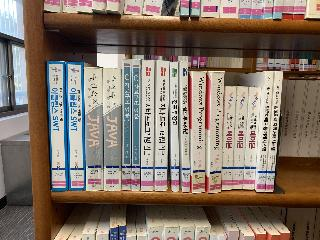book-spine: (47, 60, 70, 191), (65, 61, 86, 191), (84, 67, 104, 191), (255, 71, 274, 193), (103, 68, 121, 191), (207, 71, 225, 194), (266, 71, 283, 193), (231, 86, 249, 190), (243, 86, 261, 190), (141, 60, 155, 191), (191, 71, 206, 193), (155, 61, 169, 191), (220, 86, 237, 191), (122, 59, 132, 191), (131, 59, 141, 191), (180, 61, 190, 192), (170, 62, 179, 192)
